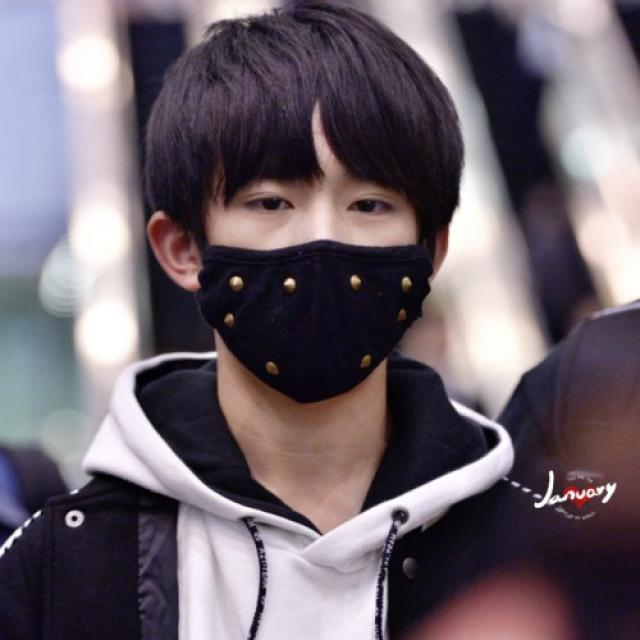mask: (205, 98, 422, 400)
